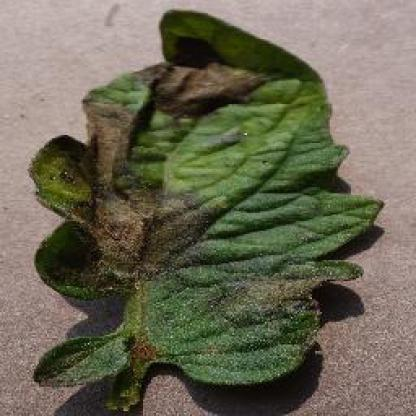bad leaf: (42, 92, 206, 296), (147, 19, 269, 116), (216, 265, 350, 328), (40, 324, 129, 386), (111, 326, 169, 415)
